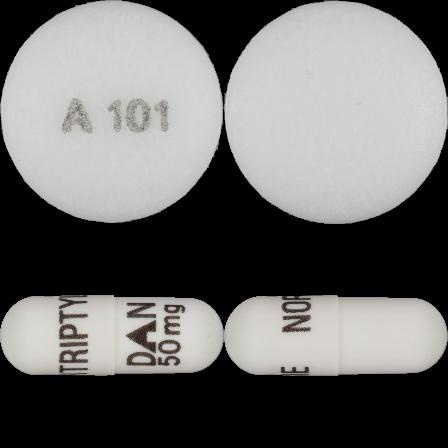61919-589: (0, 0, 224, 224)
